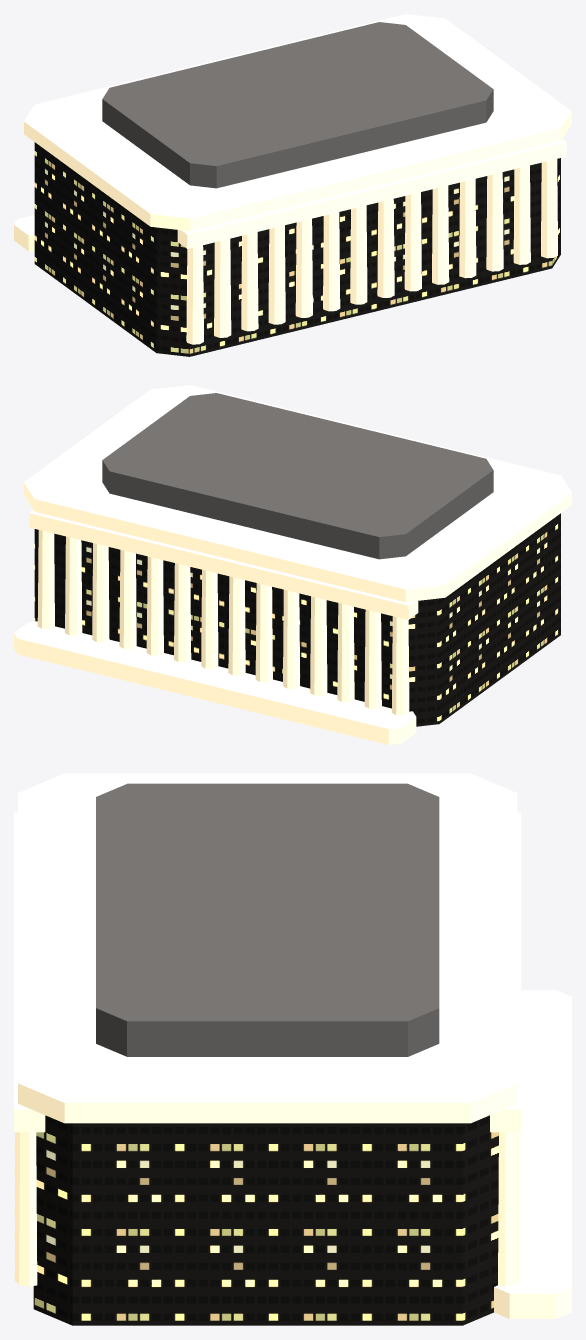
The model's file is fullerton.glb.
3 renders of one model, top to bottom at view 1: azimuth 30°, elevation 25°; view 2: azimuth 150°, elevation 25°; view 3: azimuth 270°, elevation 25°, orthographic. The views are drawn at different scales.
Parts seen in each view (by area): view 1: attic, block, cornice, colonnade, portico--1, steps; view 2: attic, block, cornice, colonnade, steps, portico-1; view 3: attic, block, cornice, steps, colonnade, portico-1, portico--1.
Boxes of the visible parts, x1,y1,x2,y2 form: attic: [102, 22, 493, 188]; block: [34, 142, 560, 356]; cornice: [24, 14, 571, 231]; colonnade: [186, 159, 557, 344]; portico--1: [177, 139, 566, 248]; steps: [14, 215, 34, 251]; attic: [102, 393, 493, 559]; block: [34, 513, 560, 726]; cornice: [24, 385, 571, 602]; colonnade: [37, 530, 409, 715]; steps: [14, 621, 416, 744]; portico-1: [29, 510, 418, 619]; attic: [96, 783, 439, 1056]; block: [33, 1115, 498, 1325]; cornice: [18, 773, 517, 1123]; steps: [494, 990, 571, 1318]; colonnade: [14, 1132, 520, 1286]; portico-1: [490, 812, 521, 1132]; portico--1: [14, 812, 45, 1132].
Bounding box in the file's own units: 100 × 37.44 × 71.5.
Materials: 3 (1 with a texture image).
